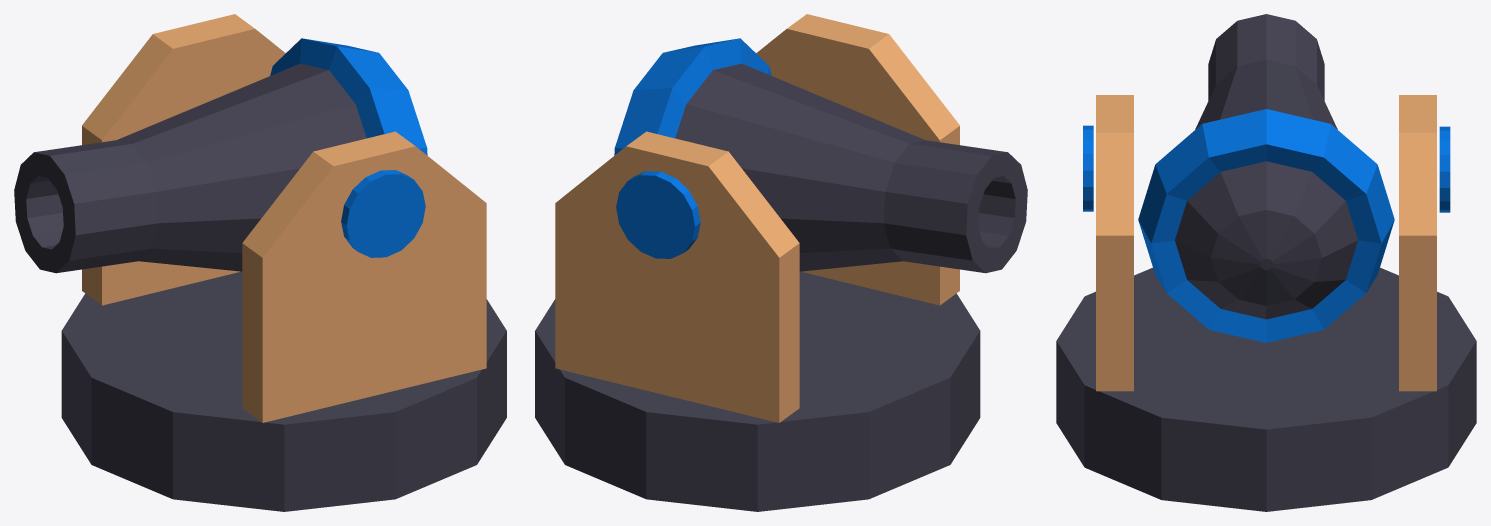
File: cannon_blue.glb
3 renders of one model, left to right at view 1: azimuth 30°, elevation 25°; view 2: azimuth 150°, elevation 25°; view 3: azimuth 270°, elevation 25°, orthographic. The views are drawn at different scales.
Visible parts, largest first — view 1: Circle.001, Circle.002, Cylinder, Circle; view 2: Circle.001, Circle.002, Cylinder, Circle.003; view 3: Circle.002, Cylinder, Circle.001, Circle.003, Circle.
Part boxes in pixels (x1=…): Circle.001: x1=82, y1=14, x2=486, y2=422; Circle.002: x1=61, y1=271, x2=506, y2=511; Cylinder: x1=14, y1=38, x2=427, y2=273; Circle: x1=341, y1=170, x2=425, y2=257; Circle.001: x1=555, y1=14, x2=959, y2=422; Circle.002: x1=535, y1=271, x2=980, y2=511; Cylinder: x1=614, y1=38, x2=1027, y2=273; Circle.003: x1=616, y1=171, x2=700, y2=258; Circle.002: x1=1056, y1=267, x2=1476, y2=511; Cylinder: x1=1138, y1=14, x2=1394, y2=342; Circle.001: x1=1096, y1=95, x2=1436, y2=391; Circle.003: x1=1439, y1=126, x2=1450, y2=212; Circle: x1=1083, y1=125, x2=1093, y2=211.
Size of the model in its own units: 4.94 by 3.88 by 4.36.
